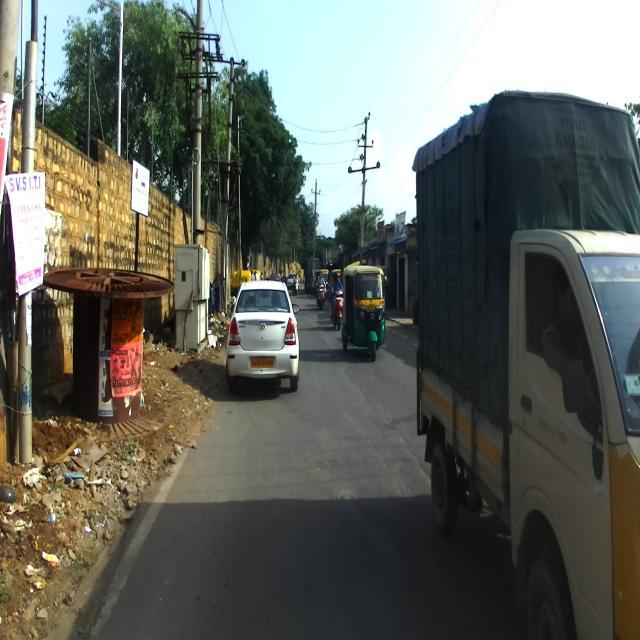auto ahead at: (340, 260, 388, 361)
barrier ahead at: (52, 259, 174, 427)
car ahead at: (229, 281, 299, 389)
electric pole ahead at: (174, 0, 220, 362)
truck ahead at: (418, 91, 640, 640)
